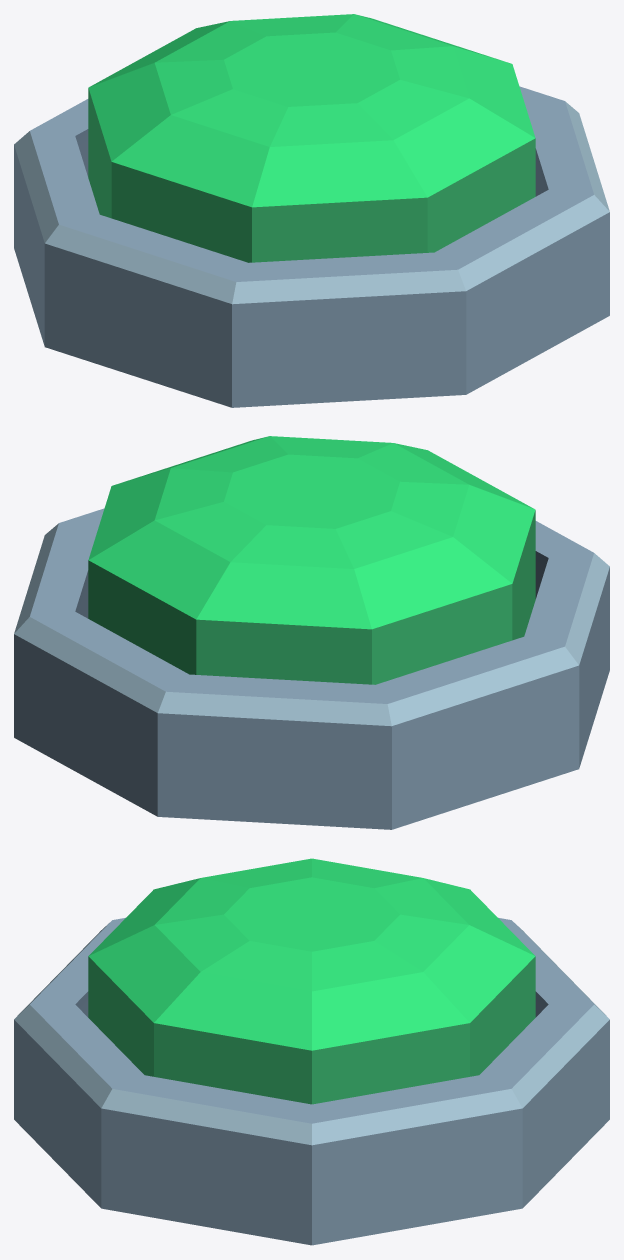
File: Green_Button.glb
3 views of the same model, one above another, from view 1: azimuth 30°, elevation 25°; view 2: azimuth 150°, elevation 25°; view 3: azimuth 270°, elevation 25° (orthographic). The views are drawn at different scales.
Parts seen in each view (by area): view 1: Base_Button_green, Button_green; view 2: Base_Button_green, Button_green; view 3: Base_Button_green, Button_green.
Part boxes in pixels (left/top/right/bottom): Base_Button_green: left=14, top=86, right=609, bottom=407; Button_green: left=88, top=14, right=535, bottom=262; Base_Button_green: left=14, top=508, right=609, bottom=829; Button_green: left=88, top=436, right=535, bottom=684; Base_Button_green: left=14, top=917, right=609, bottom=1245; Button_green: left=88, top=858, right=535, bottom=1104.
Size of what is drawn, in the model's own units: 0.272 by 0.1032 by 0.272.
Materials: 1 (1 with a texture image).
